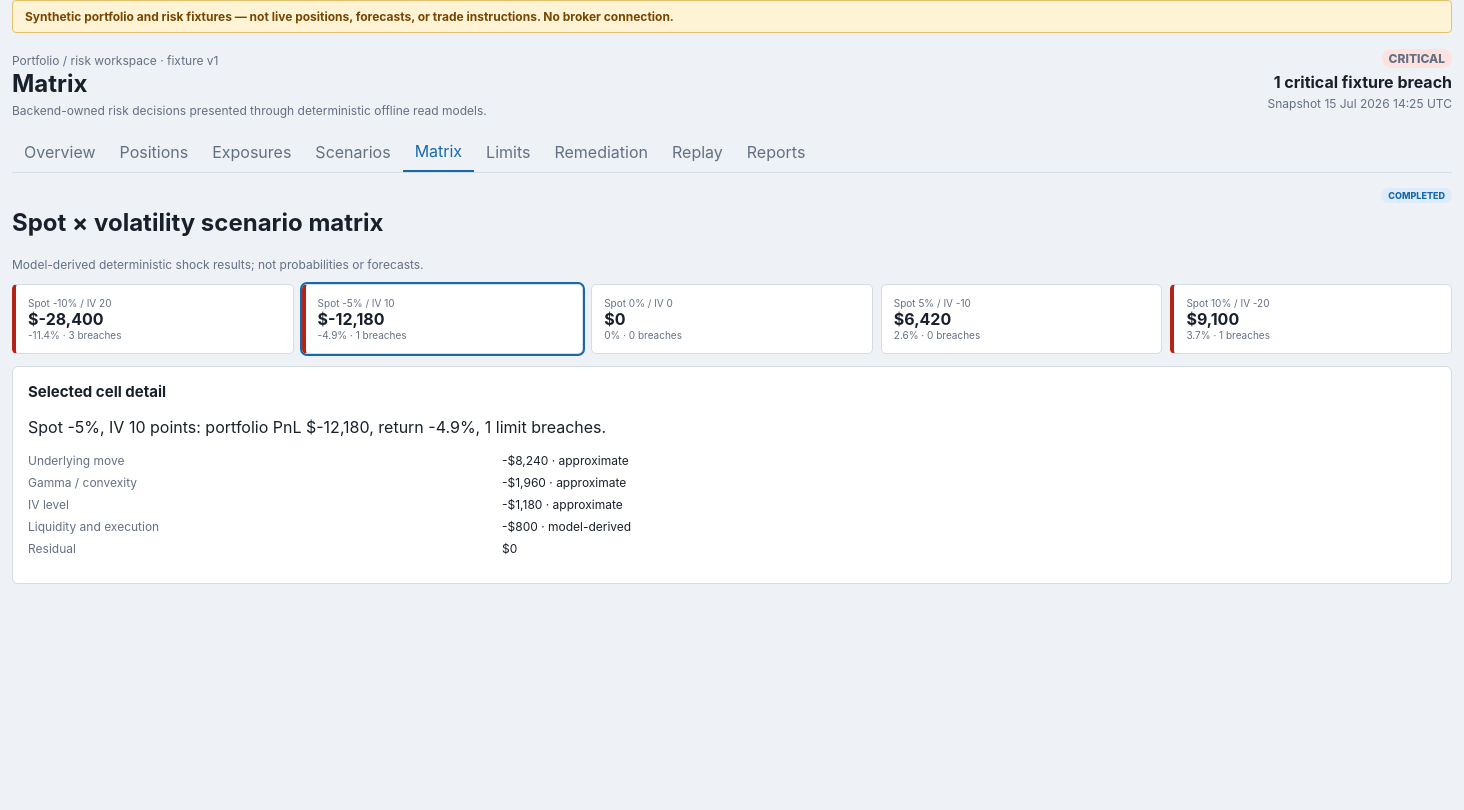
Scenario: portfolio and risk workspace › provides keyboard-accessible scenario cells and announced breaches
Click the cell "Spot -10% / IV 20 $-28,400 -11.4% · 3 breaches".
click(83, 303)  # box x1=12 y1=284 x2=294 y2=354
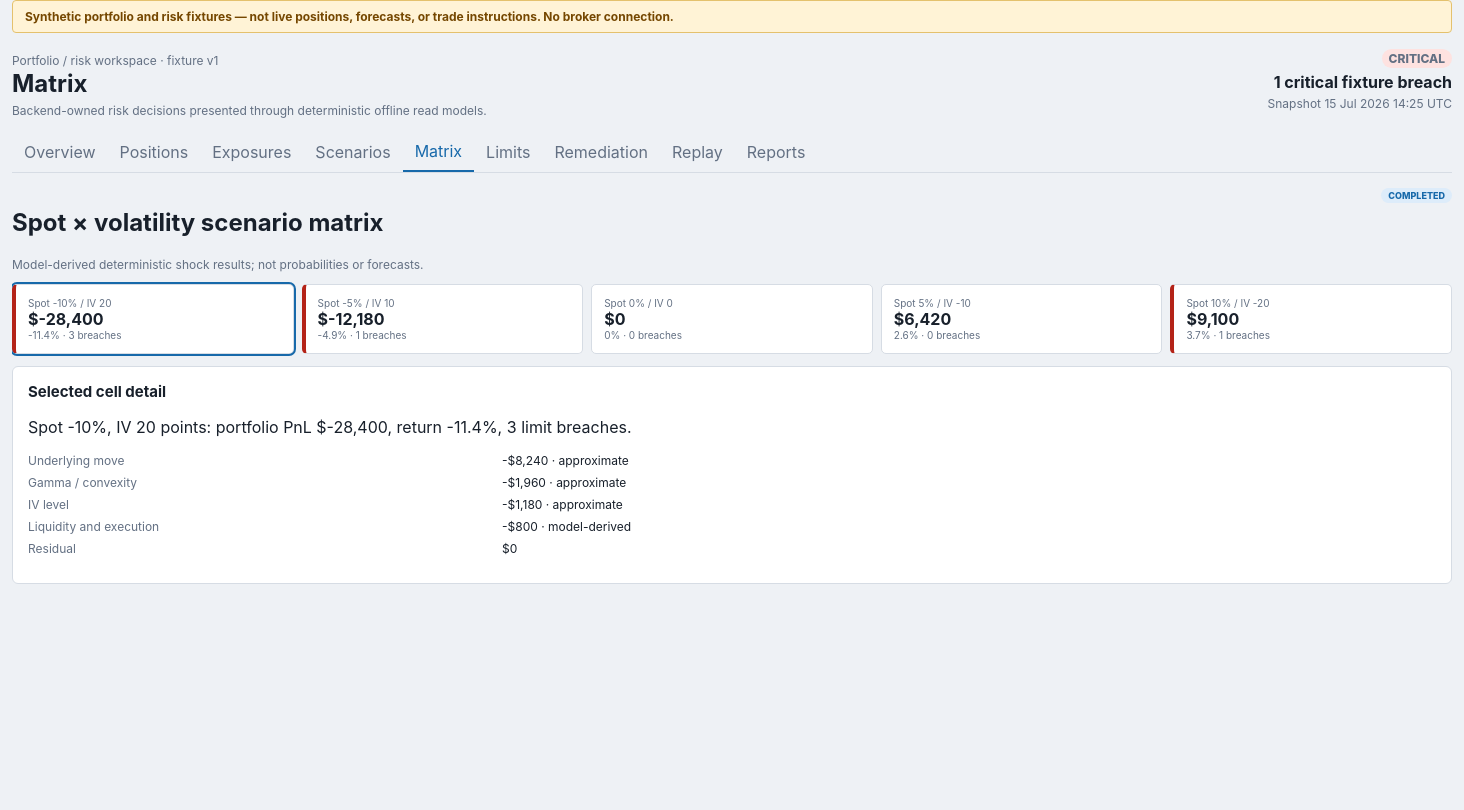
Expected: the text "3 limit breaches" is shown, x1=28 y1=417 x2=632 y2=437
